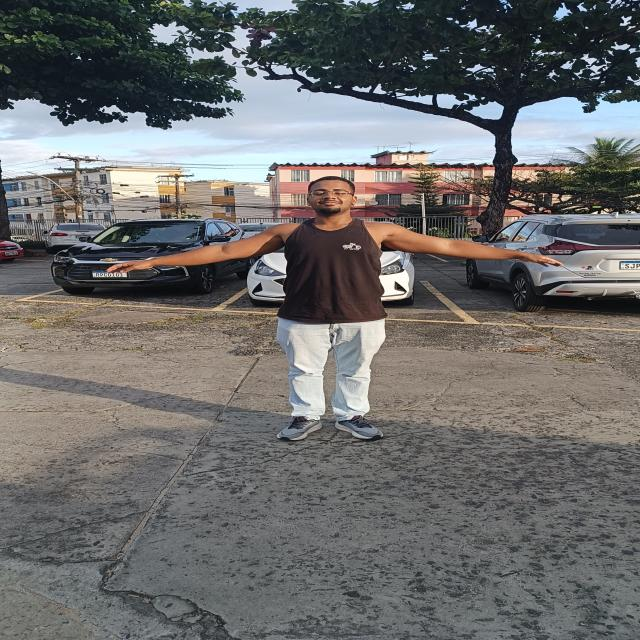takeoff: (109, 176, 563, 440)
